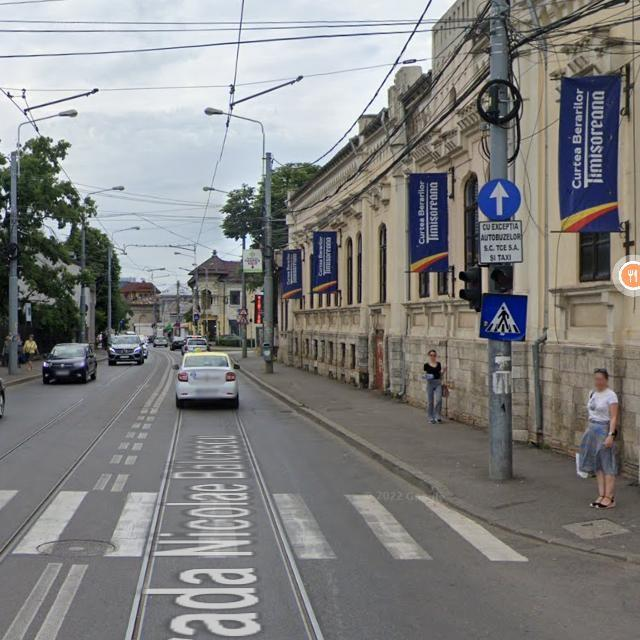info_crosswalk: (480, 291, 528, 342)
